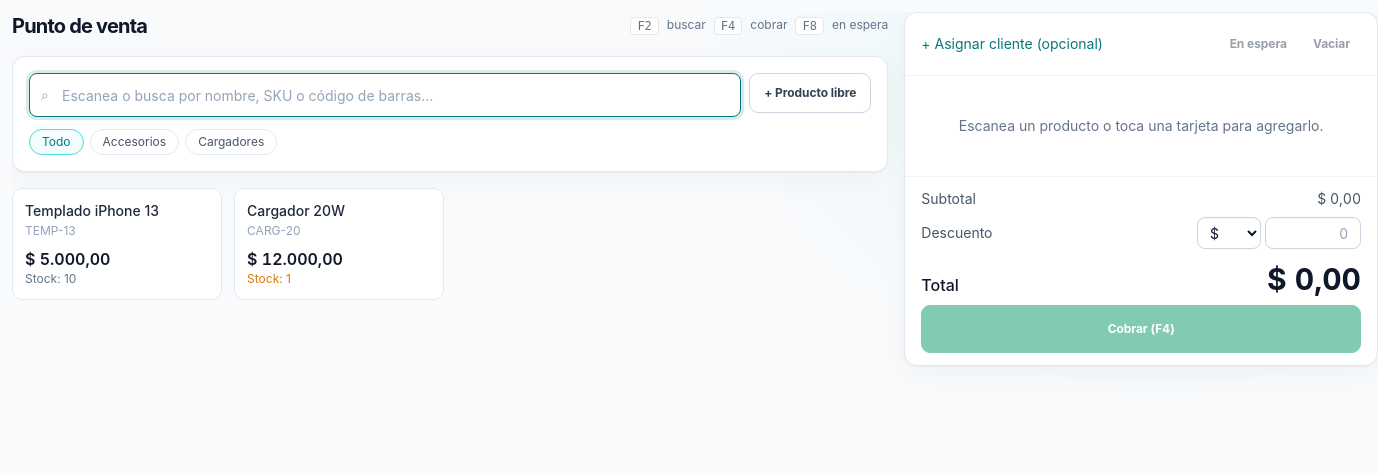
Test: PosPage › holds a sale and resumes it later
Step 1. Click the button "Templado iPhone 13 TEMP-13 $ 5.000,00 Stock: 10" → [117, 244], box [12,188,222,300]
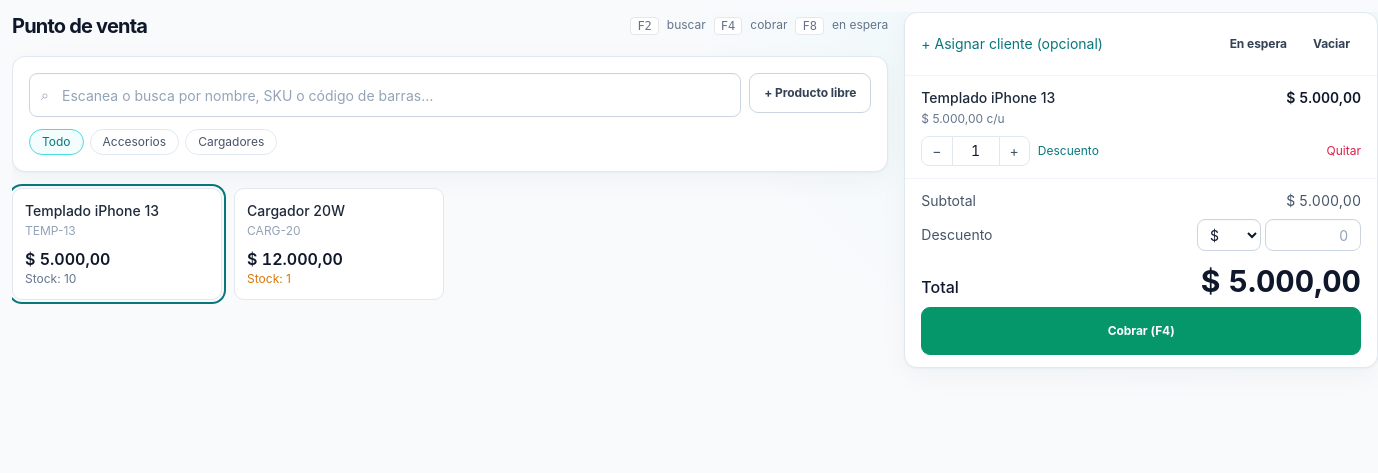
Step 2. Click the button "En espera" → [1258, 44], box [1219,25,1298,63]
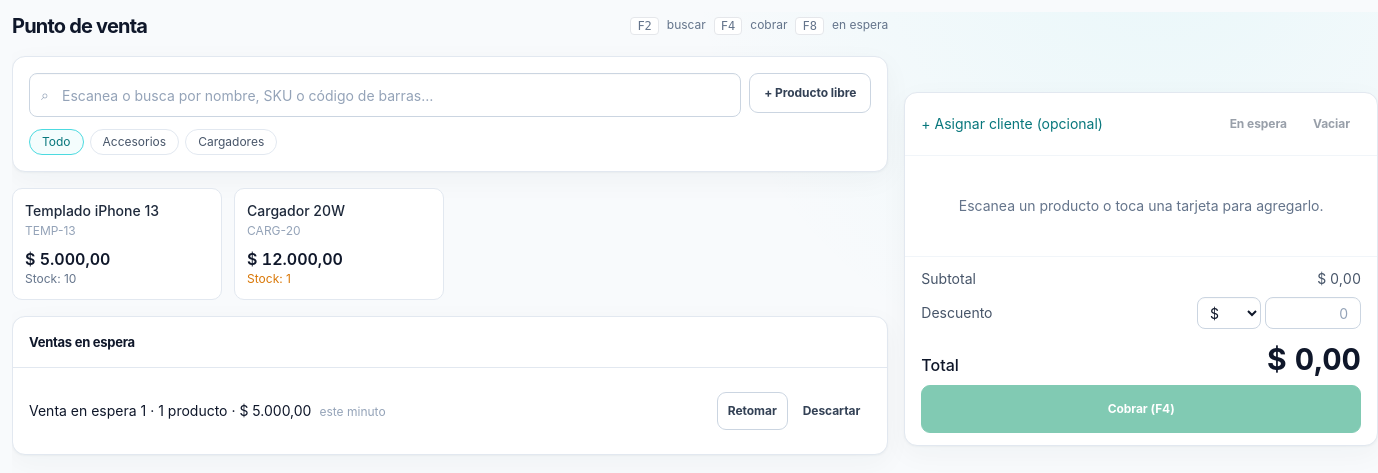
Check: the list item "Escanea un producto o toca una tarjeta para agregarlo." is shown, box [959,197,1324,214]
Step 3. Click the button "Retomar" → [752, 411], box [717,392,788,430]
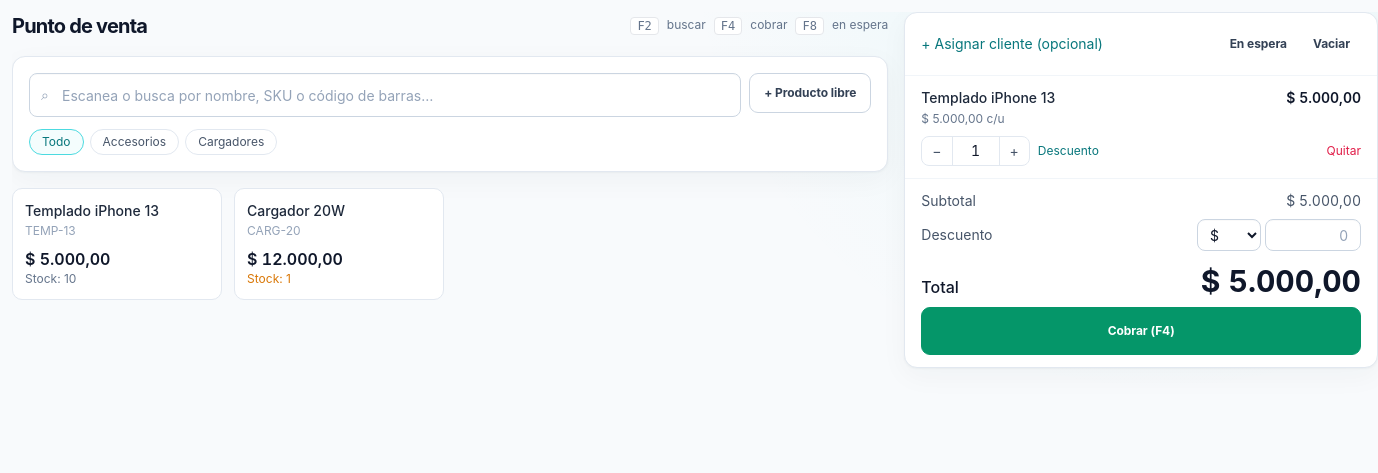
Check: the list named "Carrito" shows "Templado iPhone 13", box [921,89,1055,106]
